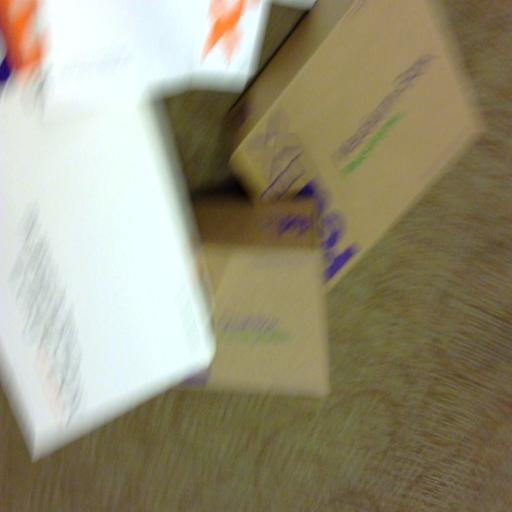Amazon: (232, 0, 470, 273)
